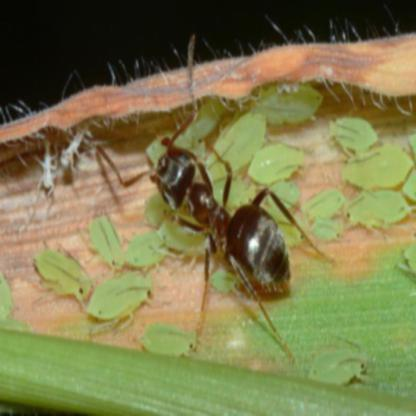schizaphis graminum: (204, 116, 268, 184), (341, 143, 415, 189), (33, 249, 93, 303), (251, 83, 325, 126), (87, 273, 149, 319), (306, 348, 372, 388), (249, 142, 306, 184), (139, 321, 195, 358), (90, 215, 123, 270)
